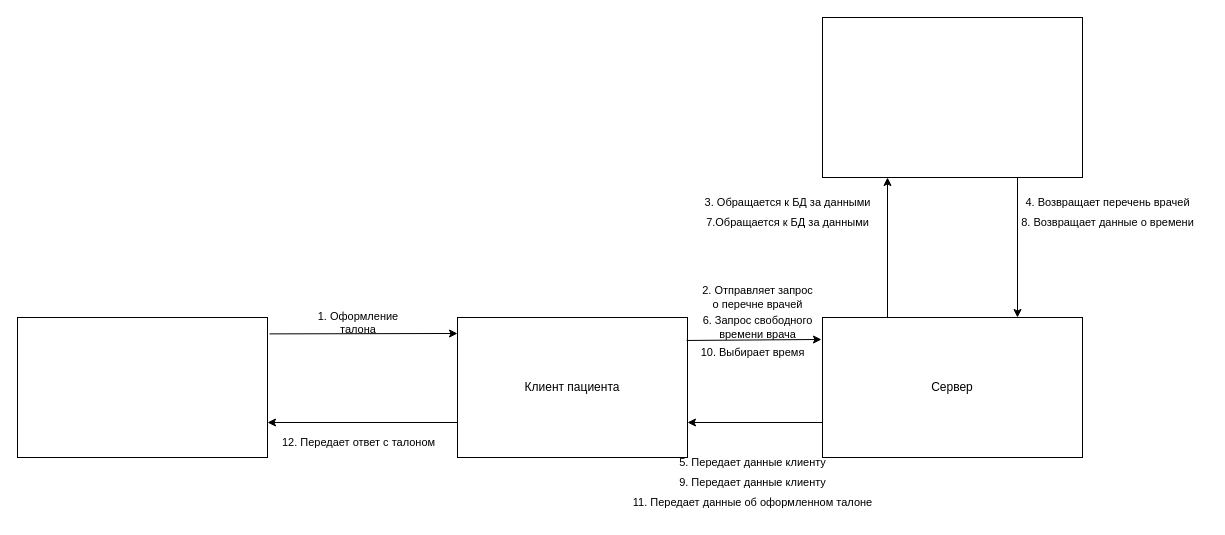
Some shapes in this 1225 by 535 pixel diagram are drawn without their labels. The centre of each missing label's shape, as x and y in pixels:
"База данных" goes at [952,97].
"Пациент" goes at [142,387].
